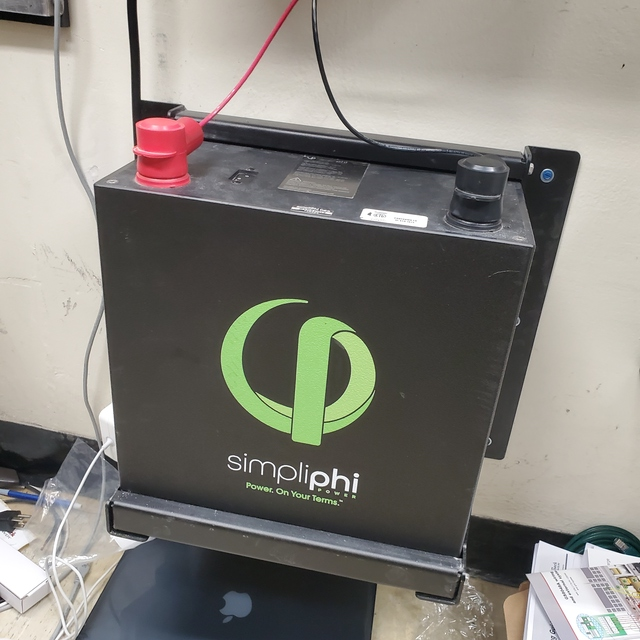battery: (83, 93, 567, 604)
